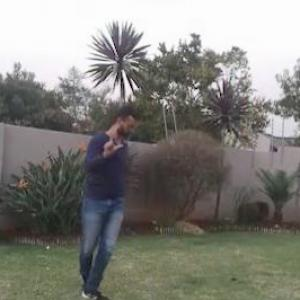land_hand: (102, 126, 125, 158)
